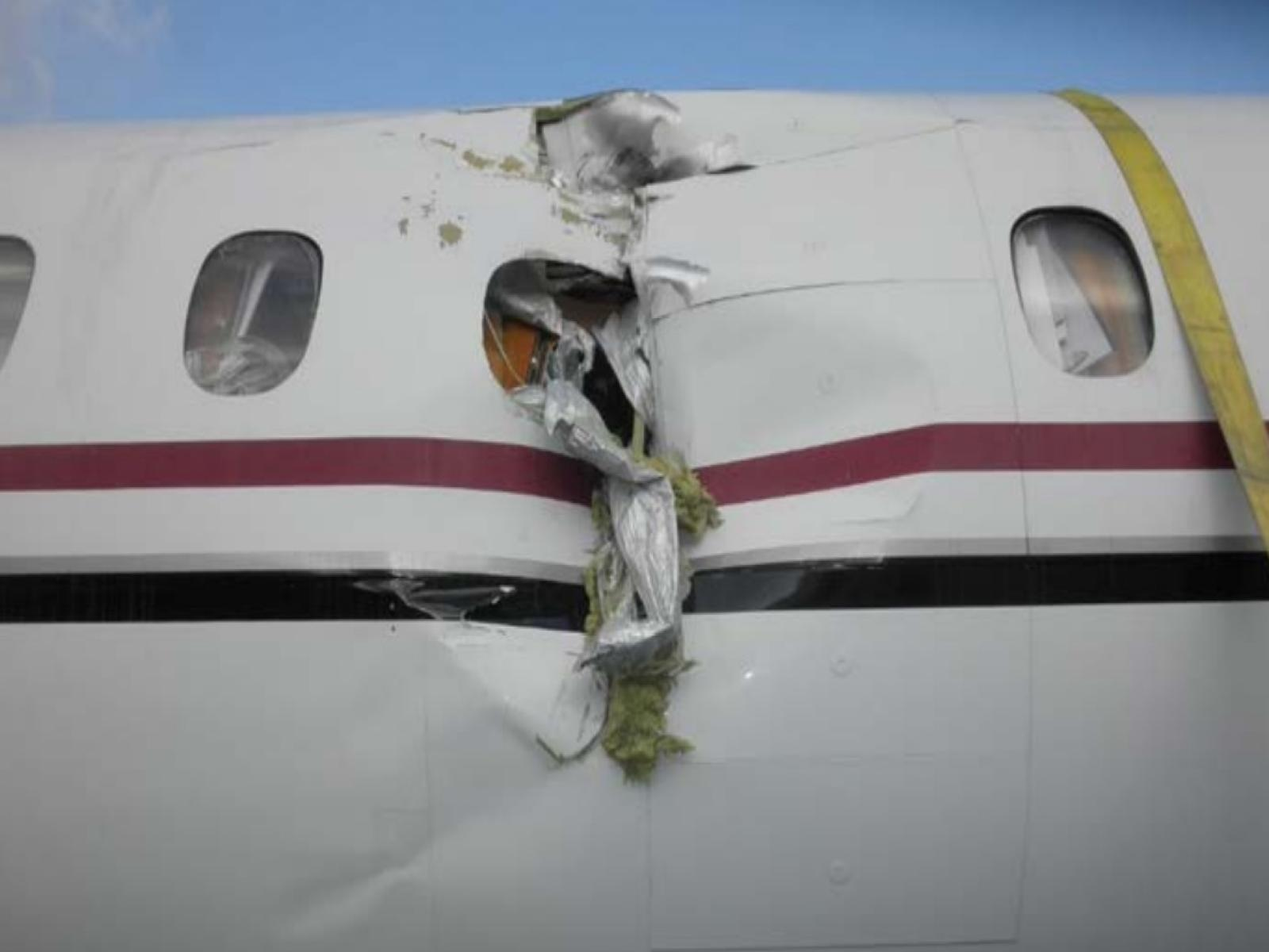Fuselage_damage: (486, 262, 717, 778), (533, 91, 734, 253), (482, 257, 636, 419), (590, 378, 650, 431), (612, 436, 665, 481), (676, 473, 712, 533)
